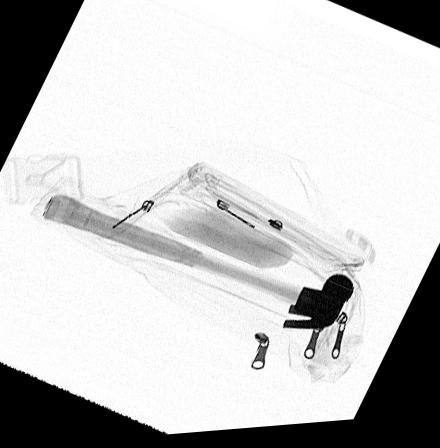Hammer: (43, 195, 353, 335)
